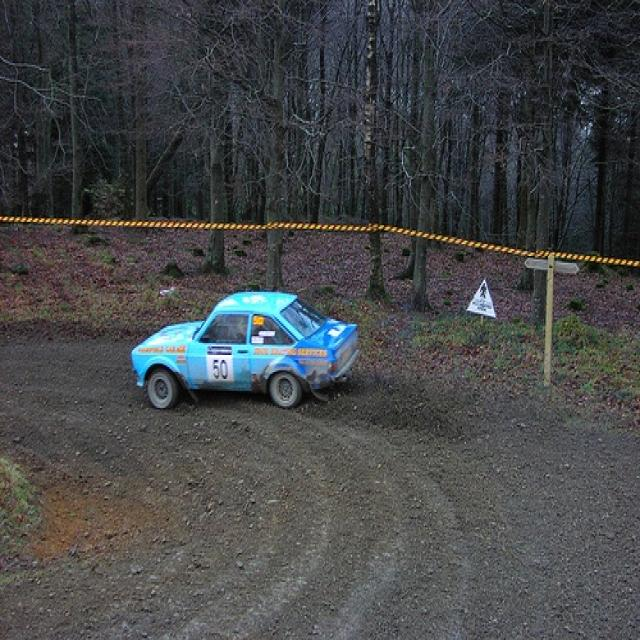car: (129, 288, 360, 409)
